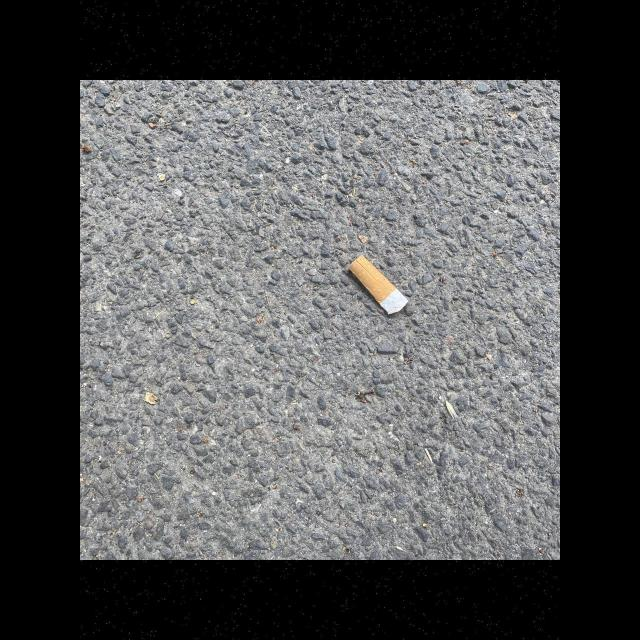cigarette: (347, 255, 409, 315)
